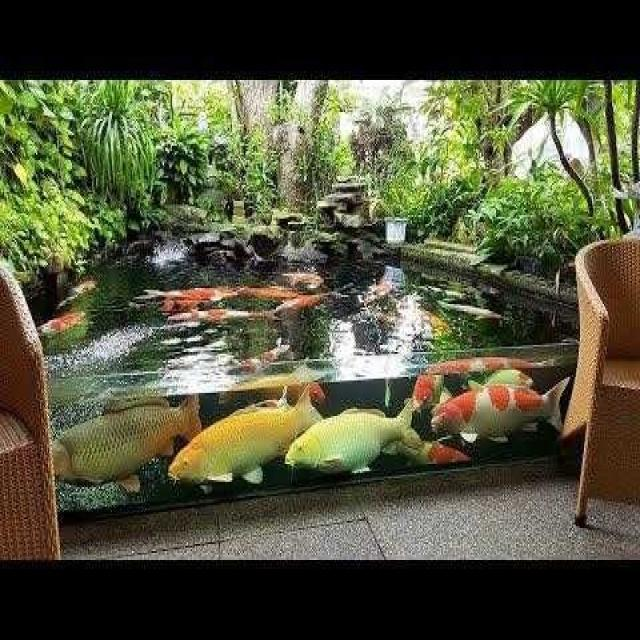Ponds: (31, 168, 581, 513)
